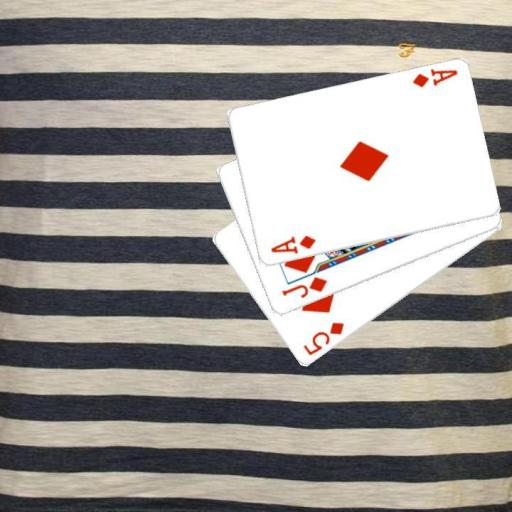5D: (300, 319, 346, 358)
AD: (268, 233, 318, 256), (409, 67, 459, 90)
JD: (279, 274, 329, 300)
